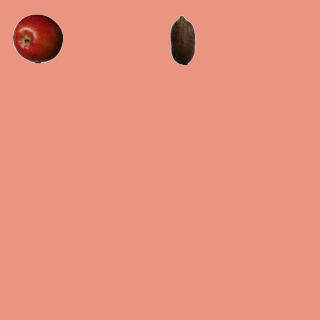Apple Braeburn: (12, 13, 62, 63)
Nut Pecan: (157, 14, 207, 64)
